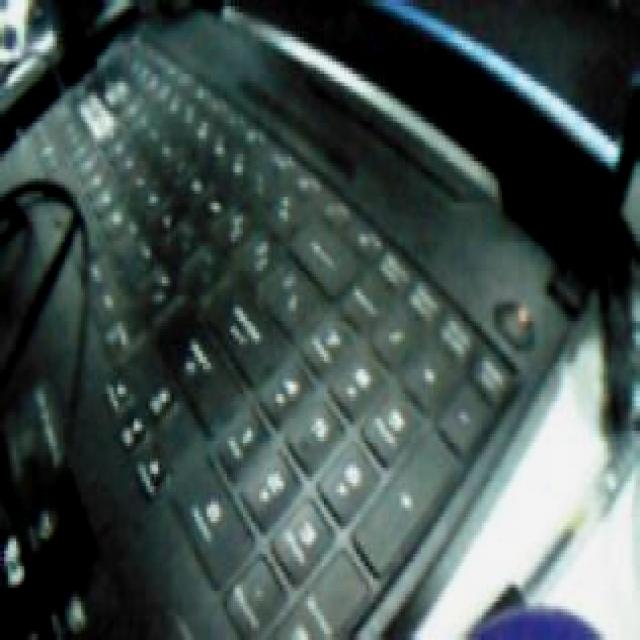BallPurple: (468, 606, 599, 640)
